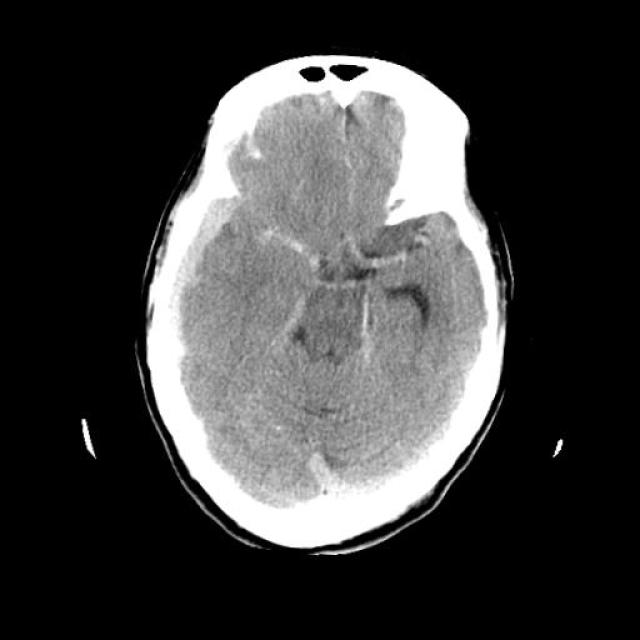Subarachnoid: (248, 210, 432, 380), (240, 114, 278, 167)
Subdural: (120, 176, 234, 439)
